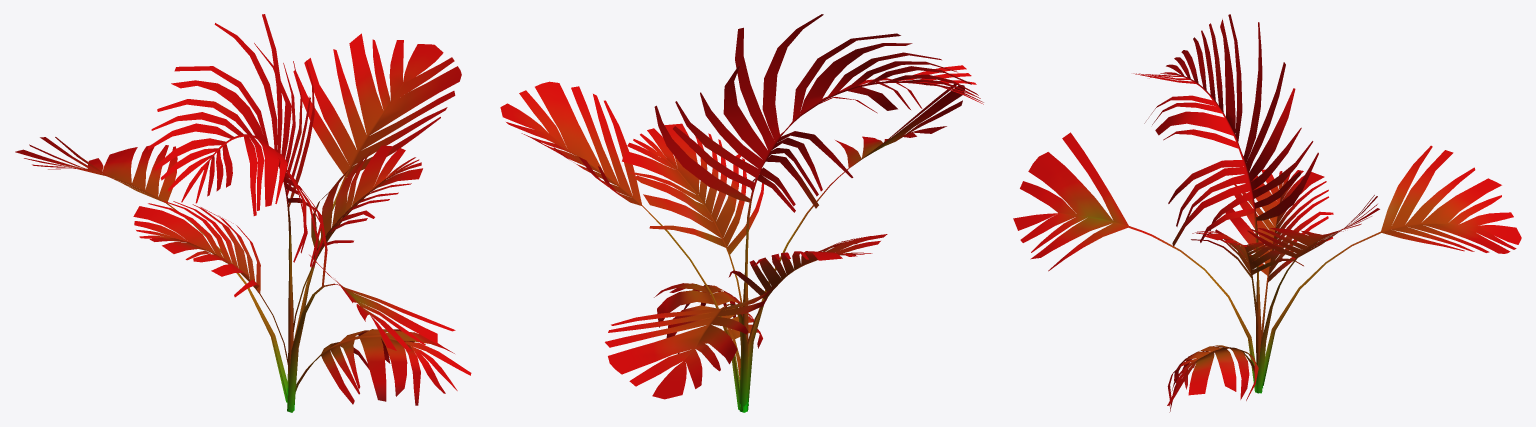
The model's file is PlantPalm07.fbx.
3 views of the same model, side by side, from view 1: azimuth 30°, elevation 25°; view 2: azimuth 150°, elevation 25°; view 3: azimuth 270°, elevation 25° (orthographic). The views are drawn at different scales.
Visible parts, largest first — view 1: _1ffc_Var3_LOD0; view 2: _1ffc_Var3_LOD0; view 3: _1ffc_Var3_LOD0.
Part boxes in pixels (<box>): _1ffc_Var3_LOD0: <box>15,14,471,412</box>; _1ffc_Var3_LOD0: <box>500,14,983,412</box>; _1ffc_Var3_LOD0: <box>1013,14,1521,412</box>.
Size of the model in its own units: 183 by 190 by 258.
